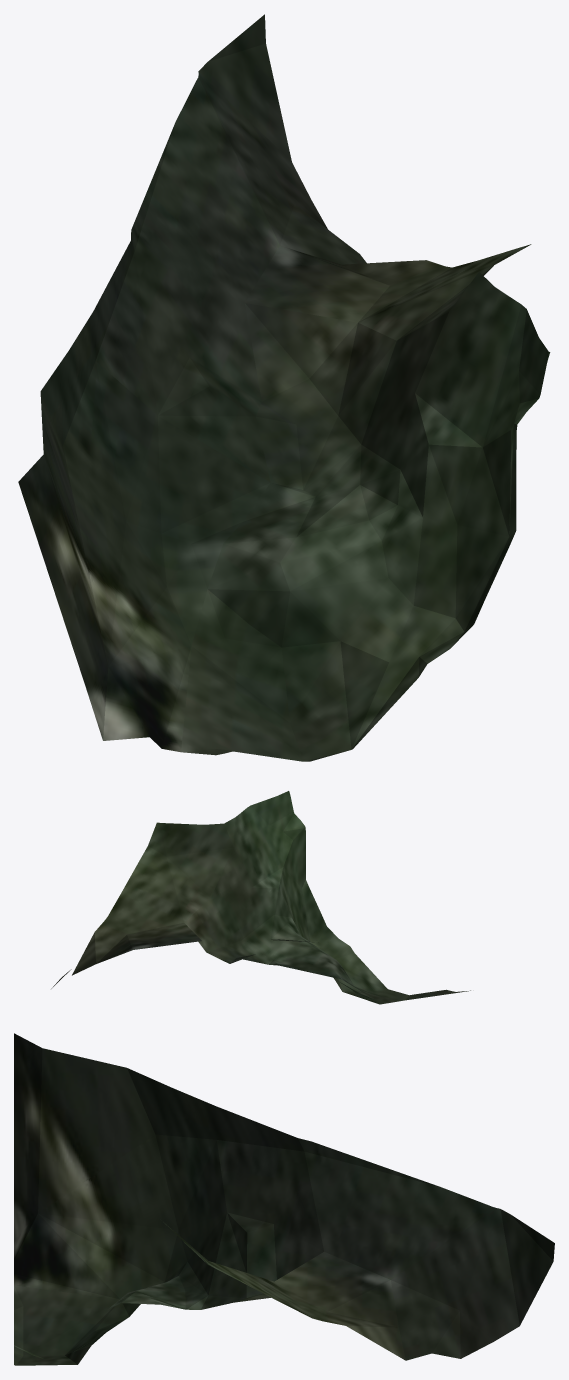
The picture shows the model from 3 angles, top to bottom: view 1: azimuth 30°, elevation 25°; view 2: azimuth 150°, elevation 25°; view 3: azimuth 270°, elevation 25°; orthographic projection. The views are drawn at different scales.
Bounding box in the file's own units: 2.48 × 1.27 × 2.7.
2 materials, 2 textured.
